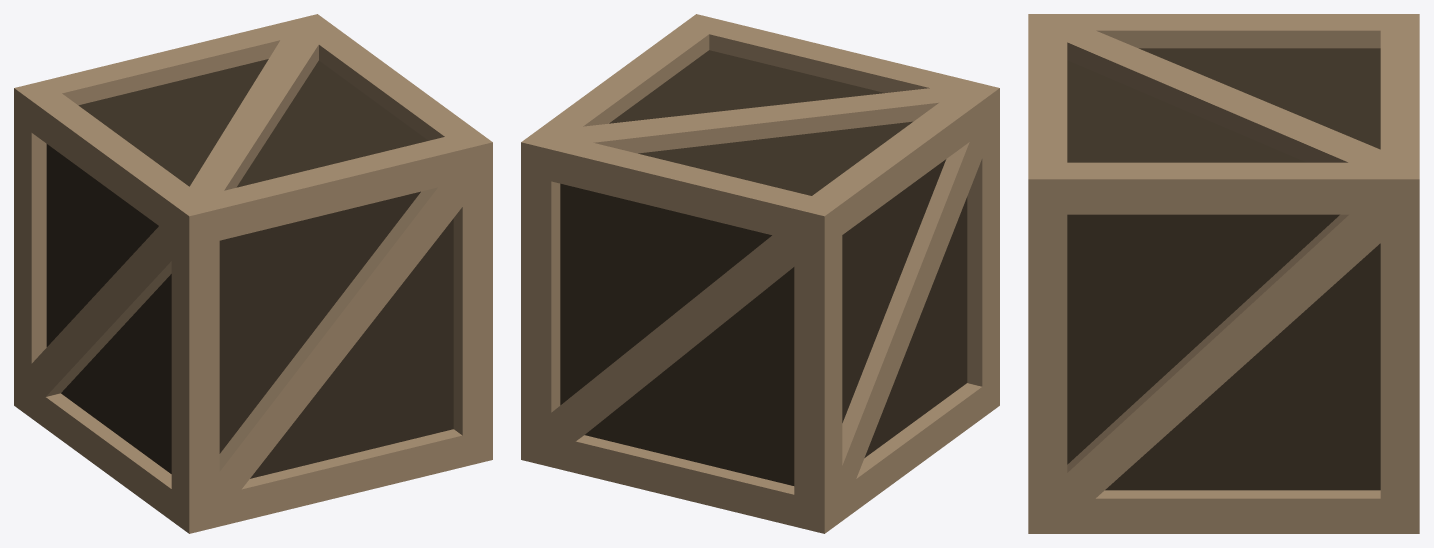
File: roman_crate_closed.fbx
3 renders of one model, left to right at view 1: azimuth 30°, elevation 25°; view 2: azimuth 150°, elevation 25°; view 3: azimuth 270°, elevation 25°, orthographic. The views are drawn at different scales.
Visible parts, largest first — view 1: Cube.014; view 2: Cube.014; view 3: Cube.014.
Part boxes in pixels (<box>): Cube.014: <box>14,14,492,533</box>; Cube.014: <box>521,14,999,533</box>; Cube.014: <box>1028,14,1419,533</box>.
Bounding box in the file's own units: 1 × 1 × 1.
